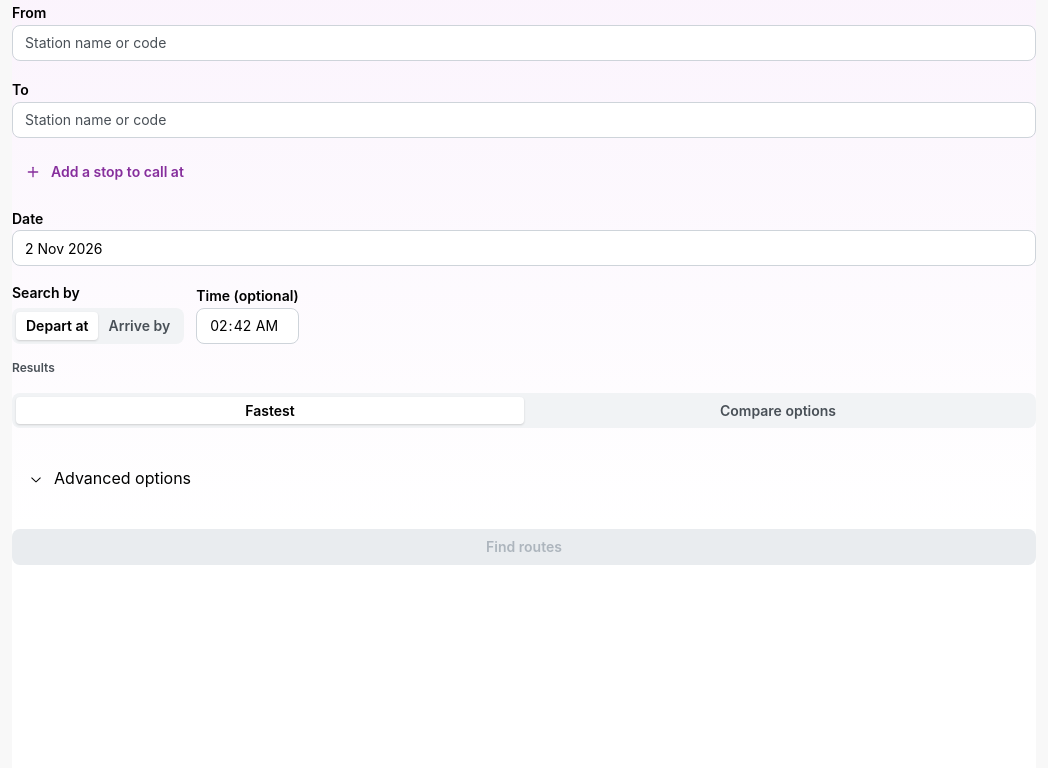
PlanTripFlow › renders the cappedByMaxChanges hint for a segment capped at the max-changes limit
The image size is (1048, 768).
Type "EUS" into the dropdown labelled "From" at coordinates (524, 43), box [12,25,1036,61]
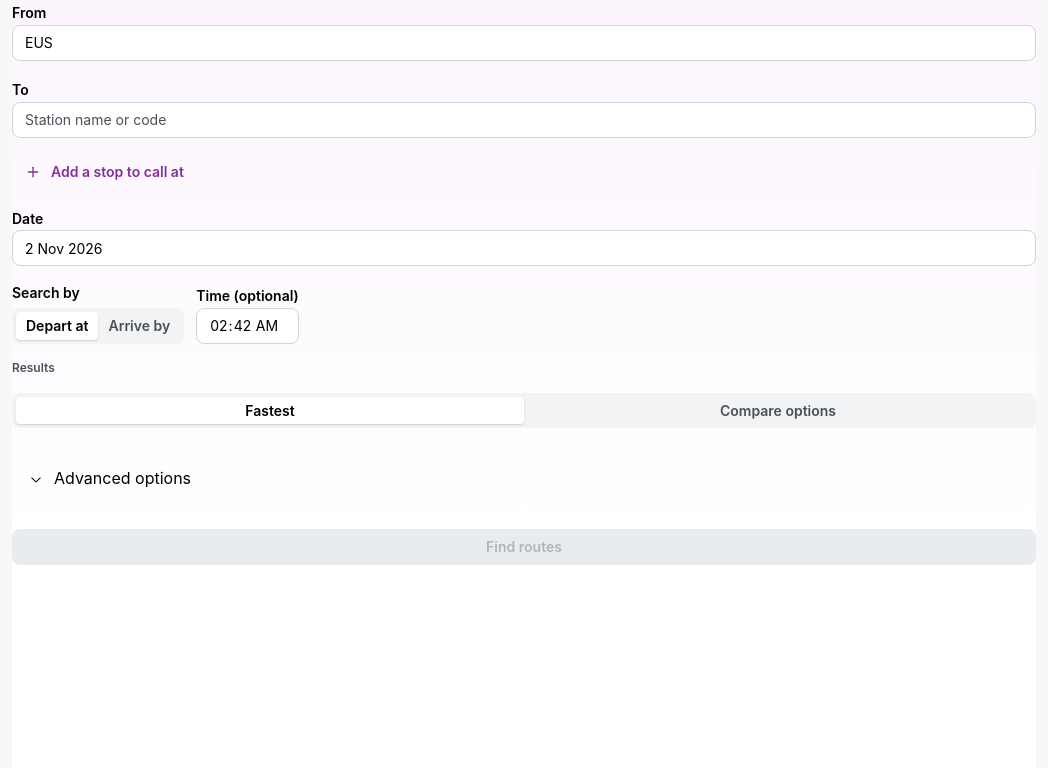
Type "MKC" into the dropdown labelled "To" at coordinates (524, 120), box [12,102,1036,138]
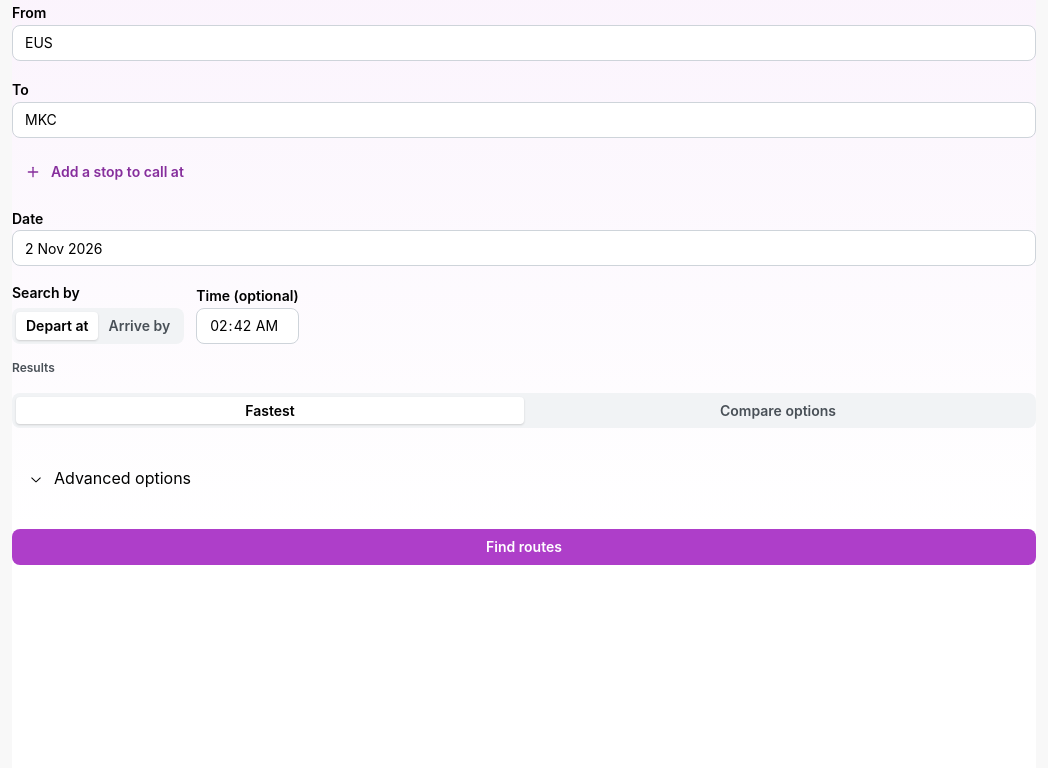
Click the button "Find routes" at coordinates (524, 547), box [12,529,1036,565]
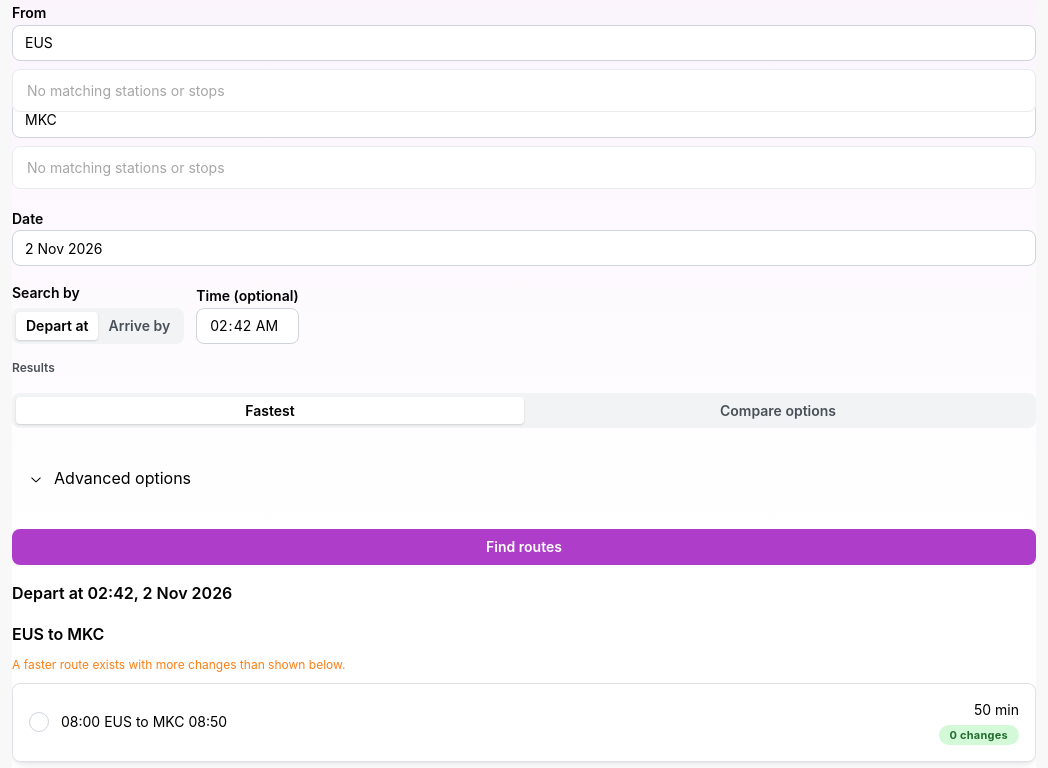
Result: the text "A faster route exists with more changes than shown below." is shown at [12,657,345,672]
